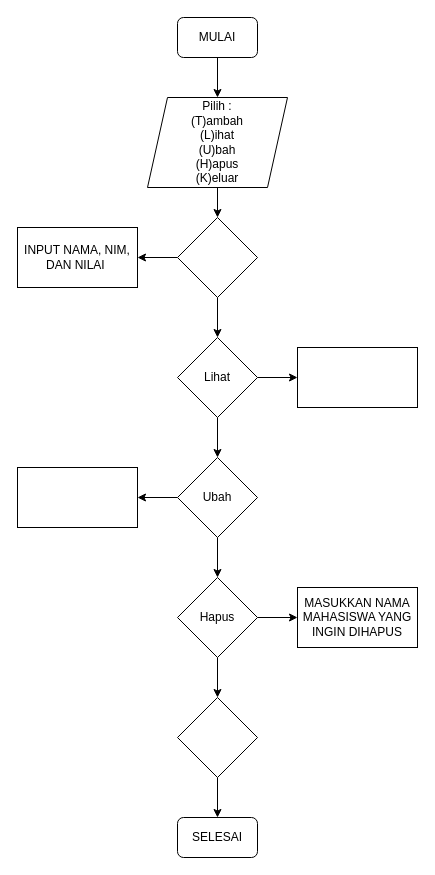
This 435x875 diagram has some shape labels left out. Here are the shapes that lost their labels. From the top down, the centre of each, then its label:
the point at 217,257: Tambah
the point at 357,377: MENAMPILKAN DATA MAHASISWA
the point at 77,497: INPUT NAMA, NIM, DAN NILAI MAHASISWA
the point at 217,737: Keluar
